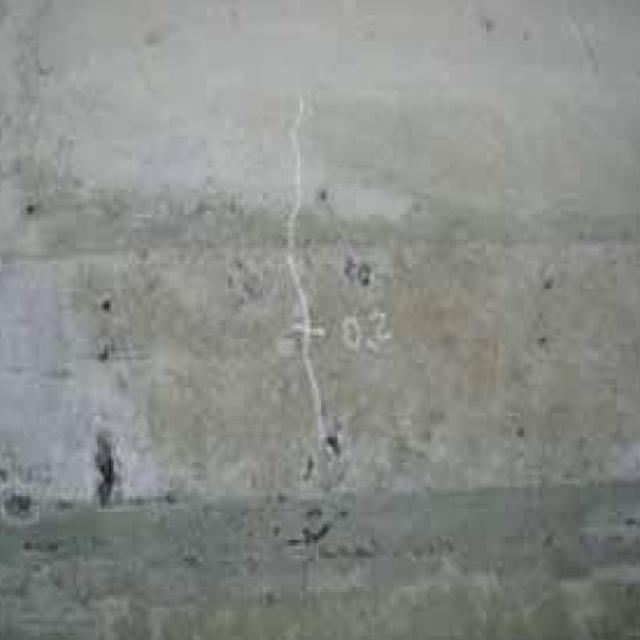crack: (276, 84, 351, 457)
